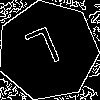L: (23, 25, 67, 79)
